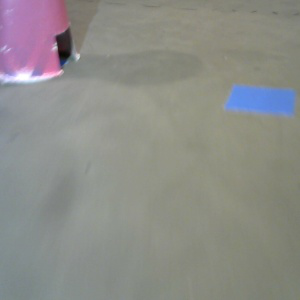middle: (1, 1, 82, 89)
